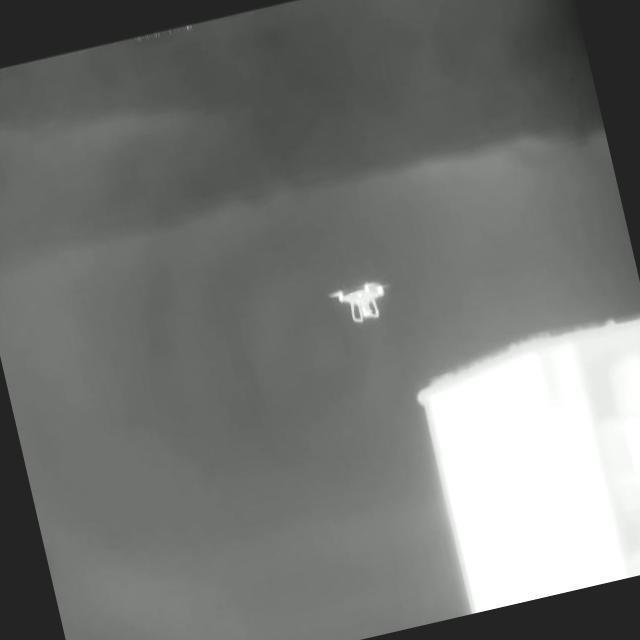DRONE: (326, 279, 395, 322)
